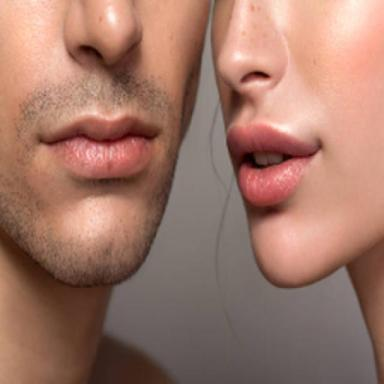normal skin: (0, 0, 209, 384), (212, 0, 384, 384)
